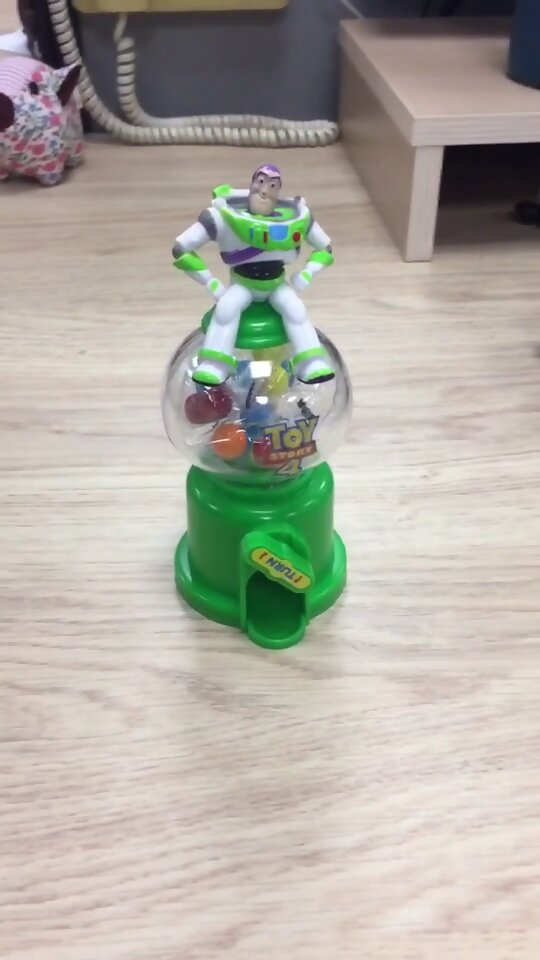buzz: (159, 162, 359, 655)
